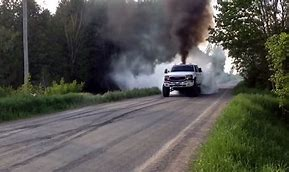smoke: (167, 1, 211, 64)
